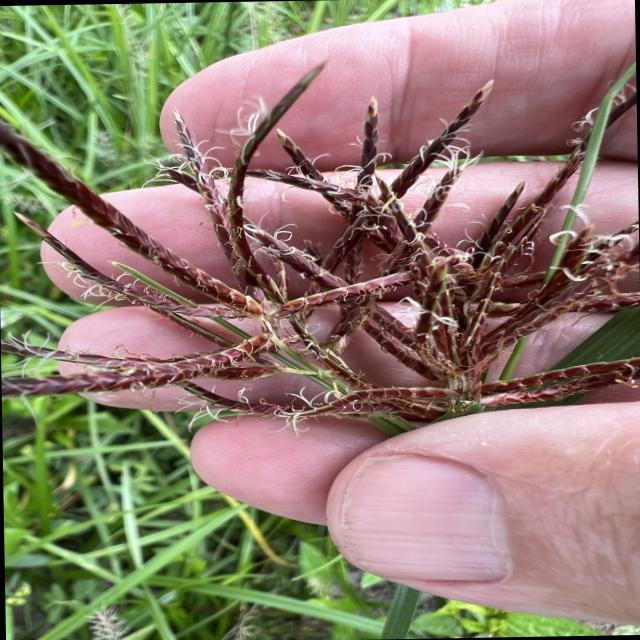cyperus: (0, 46, 640, 472)
